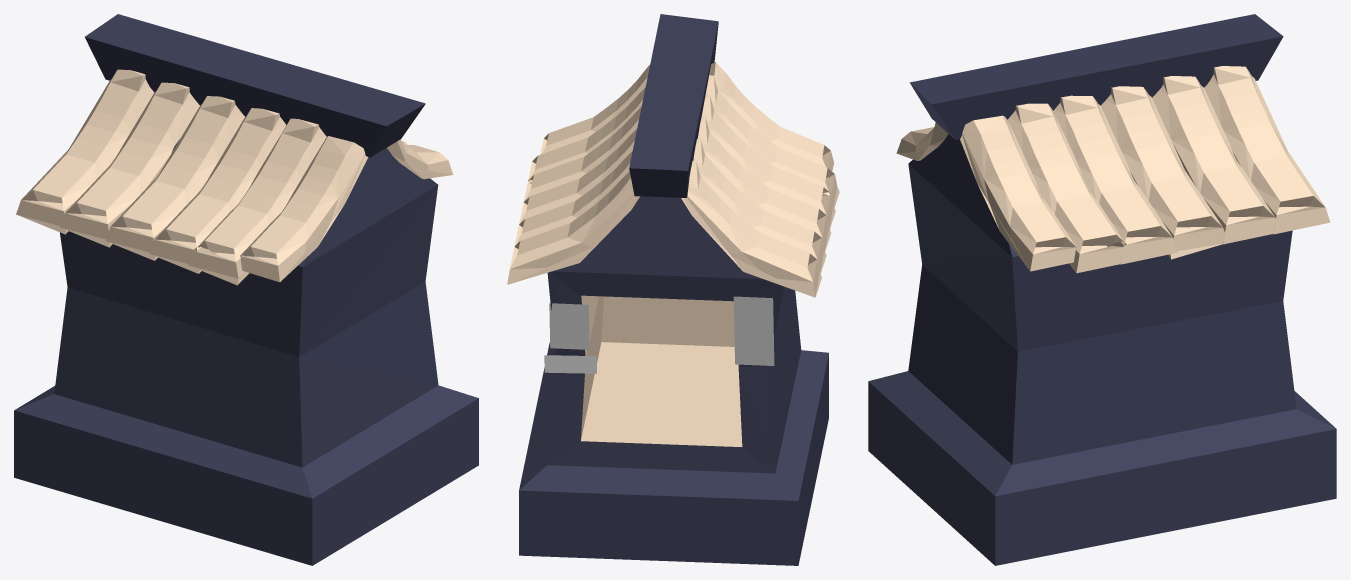
Rendered from Temple_Home.glb.
3 renders of one model, left to right at view 1: azimuth 30°, elevation 25°; view 2: azimuth 150°, elevation 25°; view 3: azimuth 270°, elevation 25°, orthographic. The views are drawn at different scales.
Visible parts, largest first — view 1: Temple; view 2: Temple; view 3: Temple.
Boxes of the visible parts, box(x1,y1,x2,y2) form: Temple: box(14, 14, 478, 565); Temple: box(507, 14, 839, 565); Temple: box(868, 14, 1336, 565).
Size of the model in its own units: 8.02 by 8.42 by 8.53.
